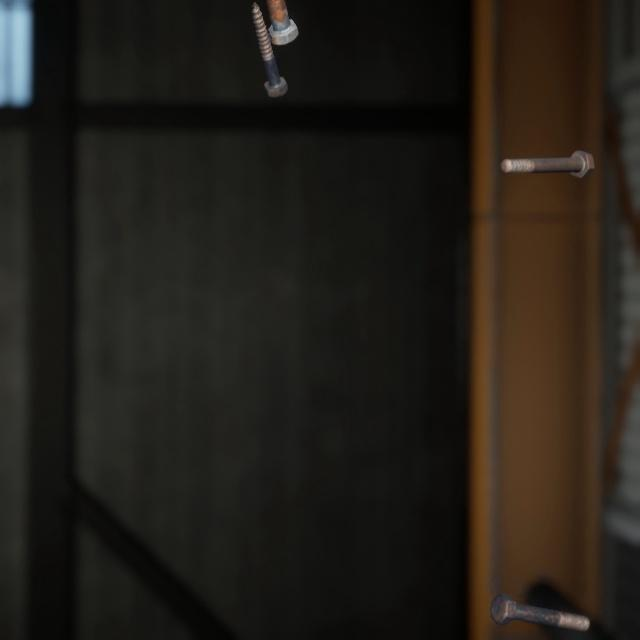bolt: (485, 564, 594, 612), (247, 0, 292, 91), (495, 132, 598, 169), (262, 0, 303, 43)
